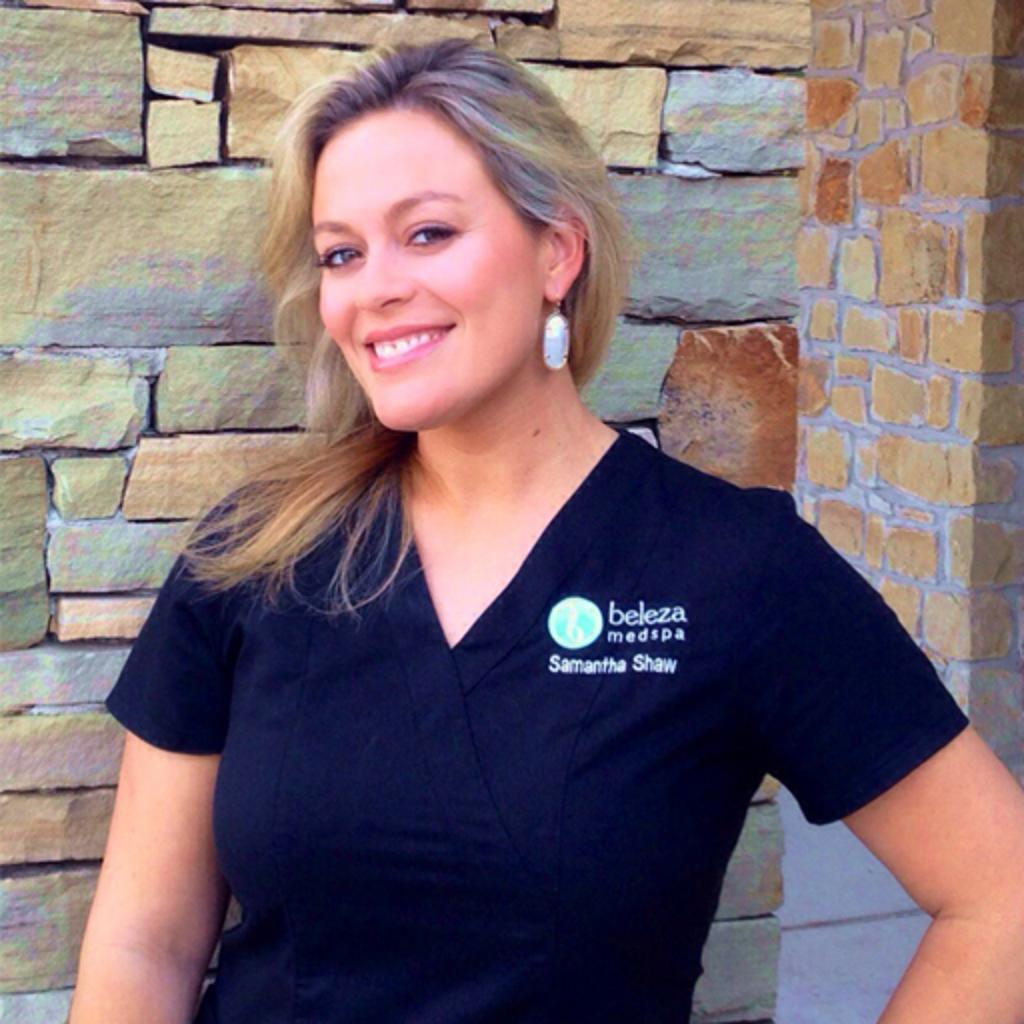face: (318, 156, 522, 430)
